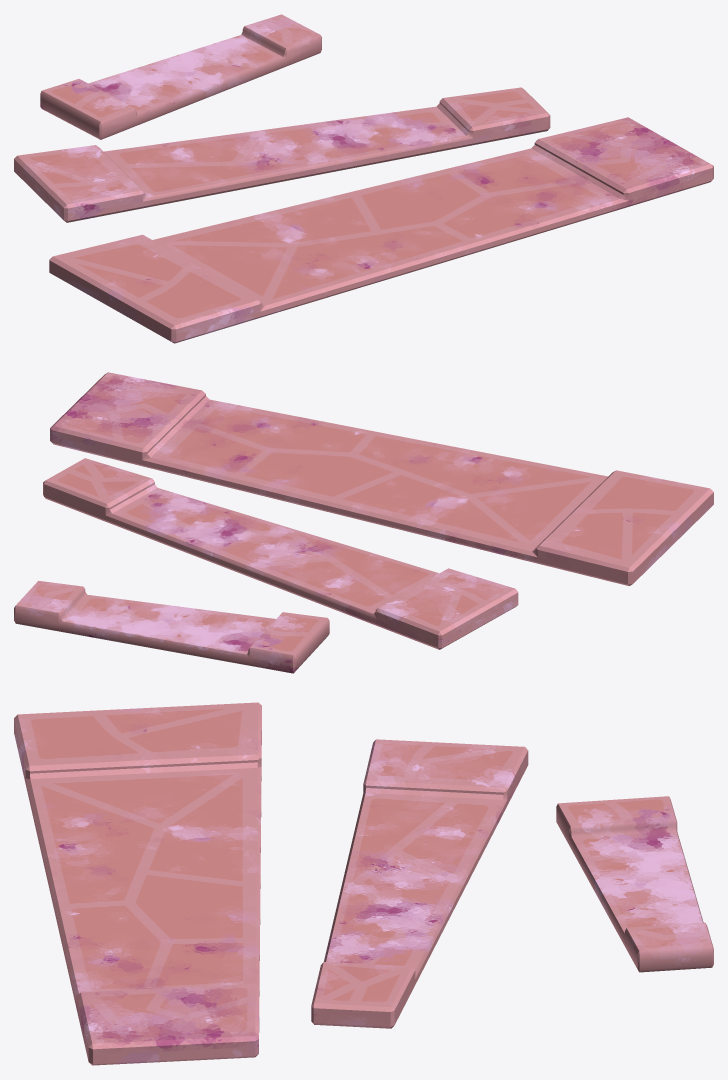
File: baldosas final.fbx
3 views of the same model, one above another, from view 1: azimuth 30°, elevation 25°; view 2: azimuth 150°, elevation 25°; view 3: azimuth 270°, elevation 25° (orthographic). The views are drawn at different scales.
Parts seen in each view (by area): view 1: Cube.112; view 2: Cube.112; view 3: Cube.112.
Part boxes in pixels (x1,y1,x2,y2): Cube.112: [14, 14, 713, 343]; Cube.112: [14, 372, 713, 673]; Cube.112: [14, 702, 713, 1065].
Size of the model in its own units: 239 by 7.01 by 205.
